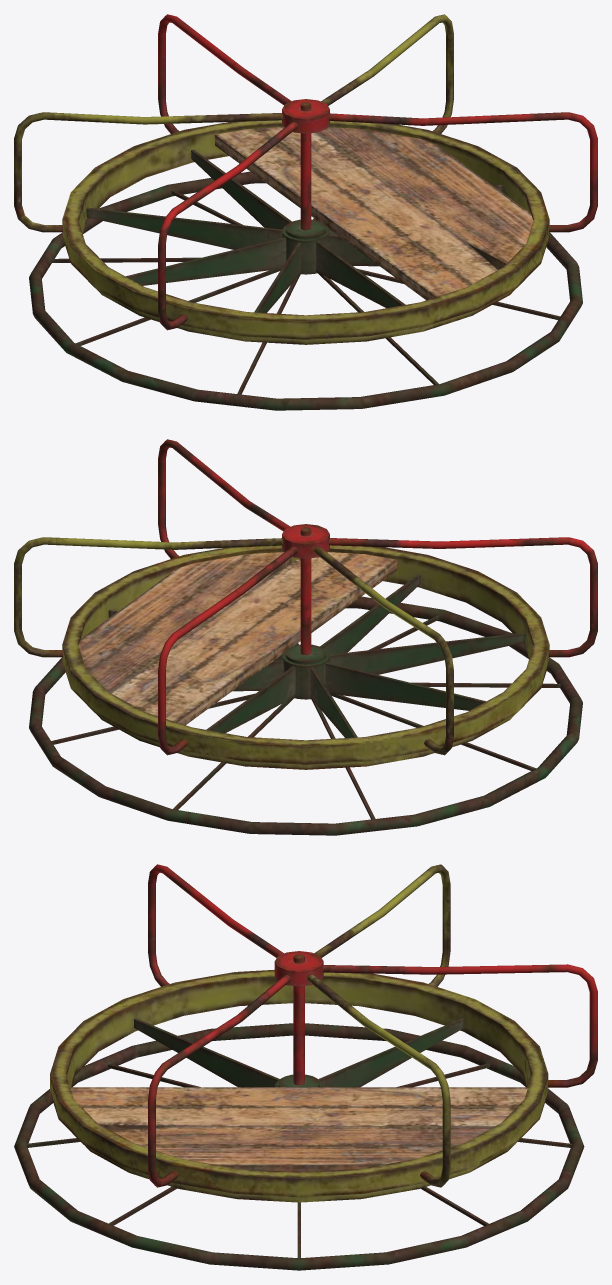
Rendered from carousel.lod0.glb.
3 views of the same model, one above another, from view 1: azimuth 30°, elevation 25°; view 2: azimuth 150°, elevation 25°; view 3: azimuth 270°, elevation 25° (orthographic). The views are drawn at different scales.
Parts seen in each view (by area): view 1: carousel_002_02 - Default_0; view 2: carousel_002_02 - Default_0; view 3: carousel_002_02 - Default_0.
Boxes of the visible parts, x1,y1,x2,y2 form: carousel_002_02 - Default_0: [14, 14, 597, 410]; carousel_002_02 - Default_0: [14, 439, 597, 835]; carousel_002_02 - Default_0: [14, 864, 597, 1270].
Bounding box in the file's own units: 4.4 × 1.65 × 4.5.
Materials: 1 (1 with a texture image).
